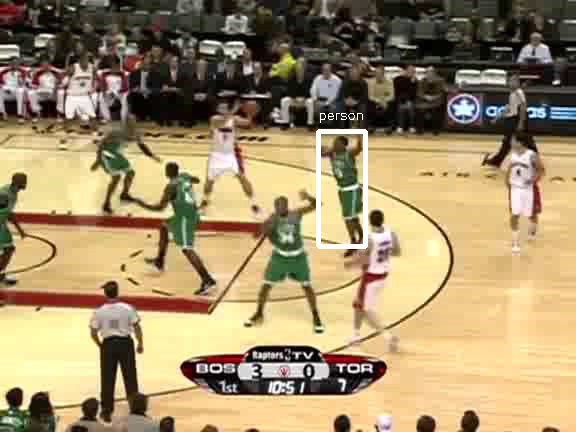person: (329, 143, 363, 224), (328, 143, 362, 224), (330, 143, 364, 224), (329, 142, 363, 223), (329, 144, 363, 225)
target_negative: (25, 270, 480, 375), (52, 13, 395, 126), (138, 373, 507, 424), (520, 8, 549, 336), (158, 387, 566, 407), (388, 275, 516, 319)
